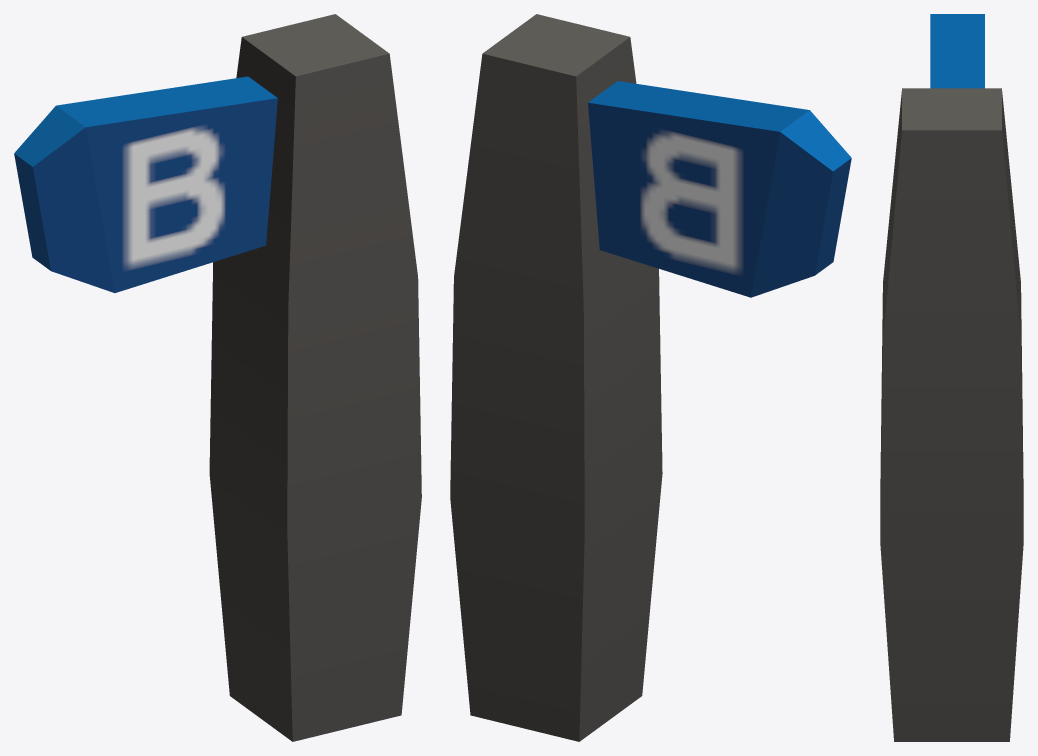
Rendered from PilarB.fbx.
3 renders of one model, left to right at view 1: azimuth 30°, elevation 25°; view 2: azimuth 150°, elevation 25°; view 3: azimuth 270°, elevation 25°, orthographic. The views are drawn at different scales.
Parts seen in each view (by area): view 1: PilarB; view 2: PilarB; view 3: PilarB.
Boxes of the visible parts, x1,y1,x2,y2 form: PilarB: [14, 14, 421, 741]; PilarB: [450, 14, 851, 741]; PilarB: [880, 14, 1023, 741].
Bounding box in the file's own units: 167 × 295 × 62.99.
1 material, 1 textured.
